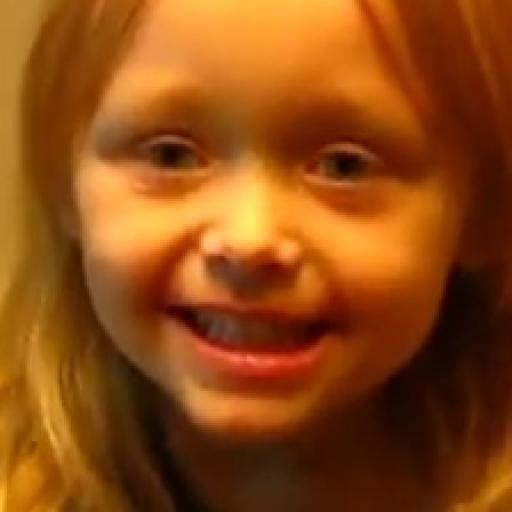Autism: (40, 0, 472, 489)
